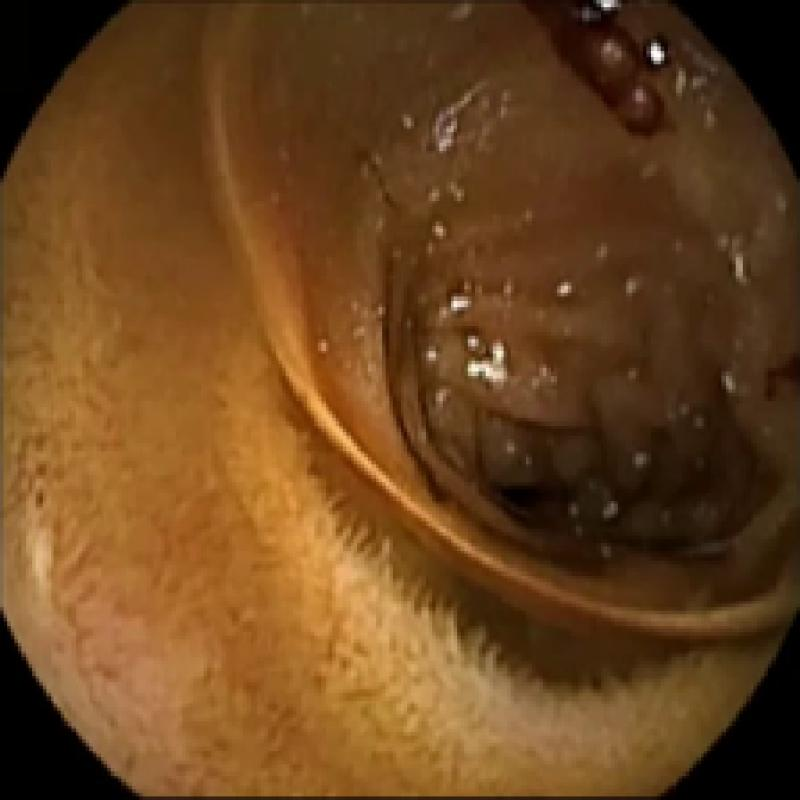bleeding: (539, 0, 679, 143)
